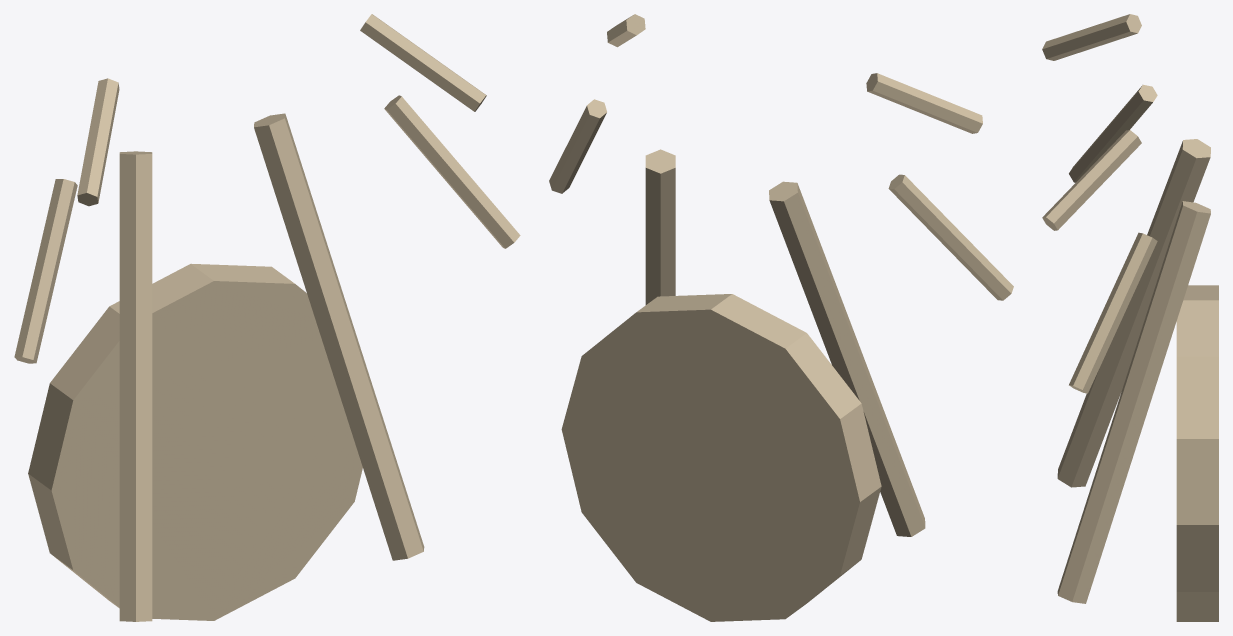
Rendered from antlers.glb.
3 renders of one model, left to right at view 1: azimuth 30°, elevation 25°; view 2: azimuth 150°, elevation 25°; view 3: azimuth 270°, elevation 25°, orthographic. The views are drawn at different scales.
Parts seen in each view (by area): view 1: antlers; view 2: antlers; view 3: antlers.
Part boxes in pixels (left/top/right/bottom): antlers: left=14, top=14, right=520, bottom=621; antlers: left=549, top=14, right=1013, bottom=621; antlers: left=1042, top=14, right=1218, bottom=621.
Bounding box in the file's own units: 0.2479 × 0.2793 × 0.0836.
